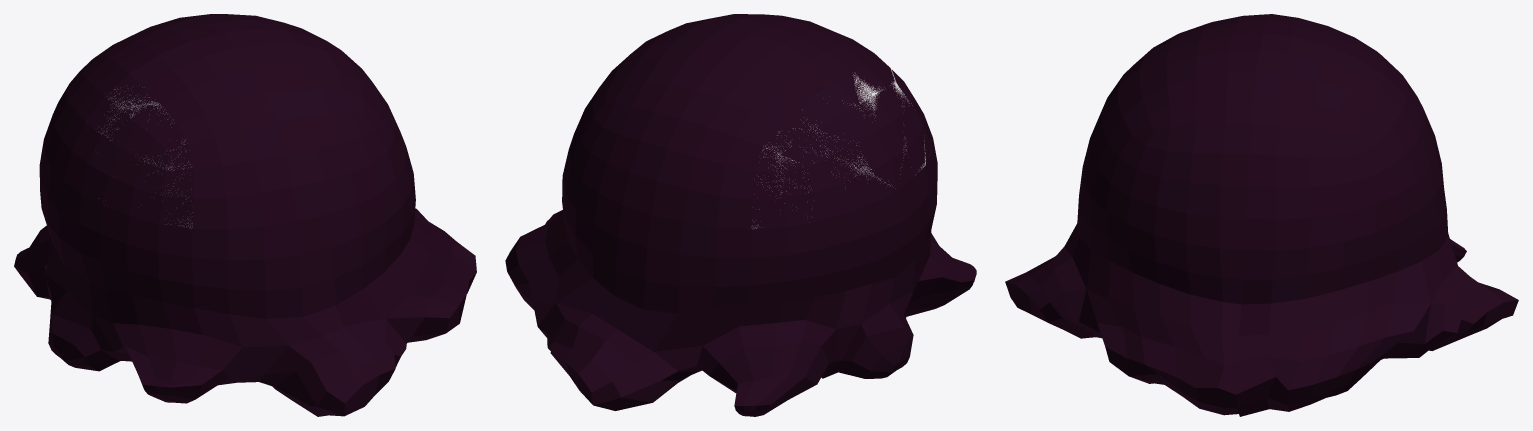
File: FobosDef.fbx
The picture shows the model from 3 angles, left to right: view 1: azimuth 30°, elevation 25°; view 2: azimuth 150°, elevation 25°; view 3: azimuth 270°, elevation 25°; orthographic projection. The views are drawn at different scales.
Visible parts, largest first — view 1: fobos cuerpo; view 2: fobos cuerpo, fobos cuerpo.002; view 3: fobos cuerpo.
Boxes of the visible parts, x1,y1,x2,y2 form: fobos cuerpo: (14, 14, 476, 416); fobos cuerpo: (505, 14, 976, 416); fobos cuerpo.002: (751, 68, 925, 228); fobos cuerpo: (1005, 14, 1518, 416).
Size of the model in its own units: 223 by 166 by 266.
